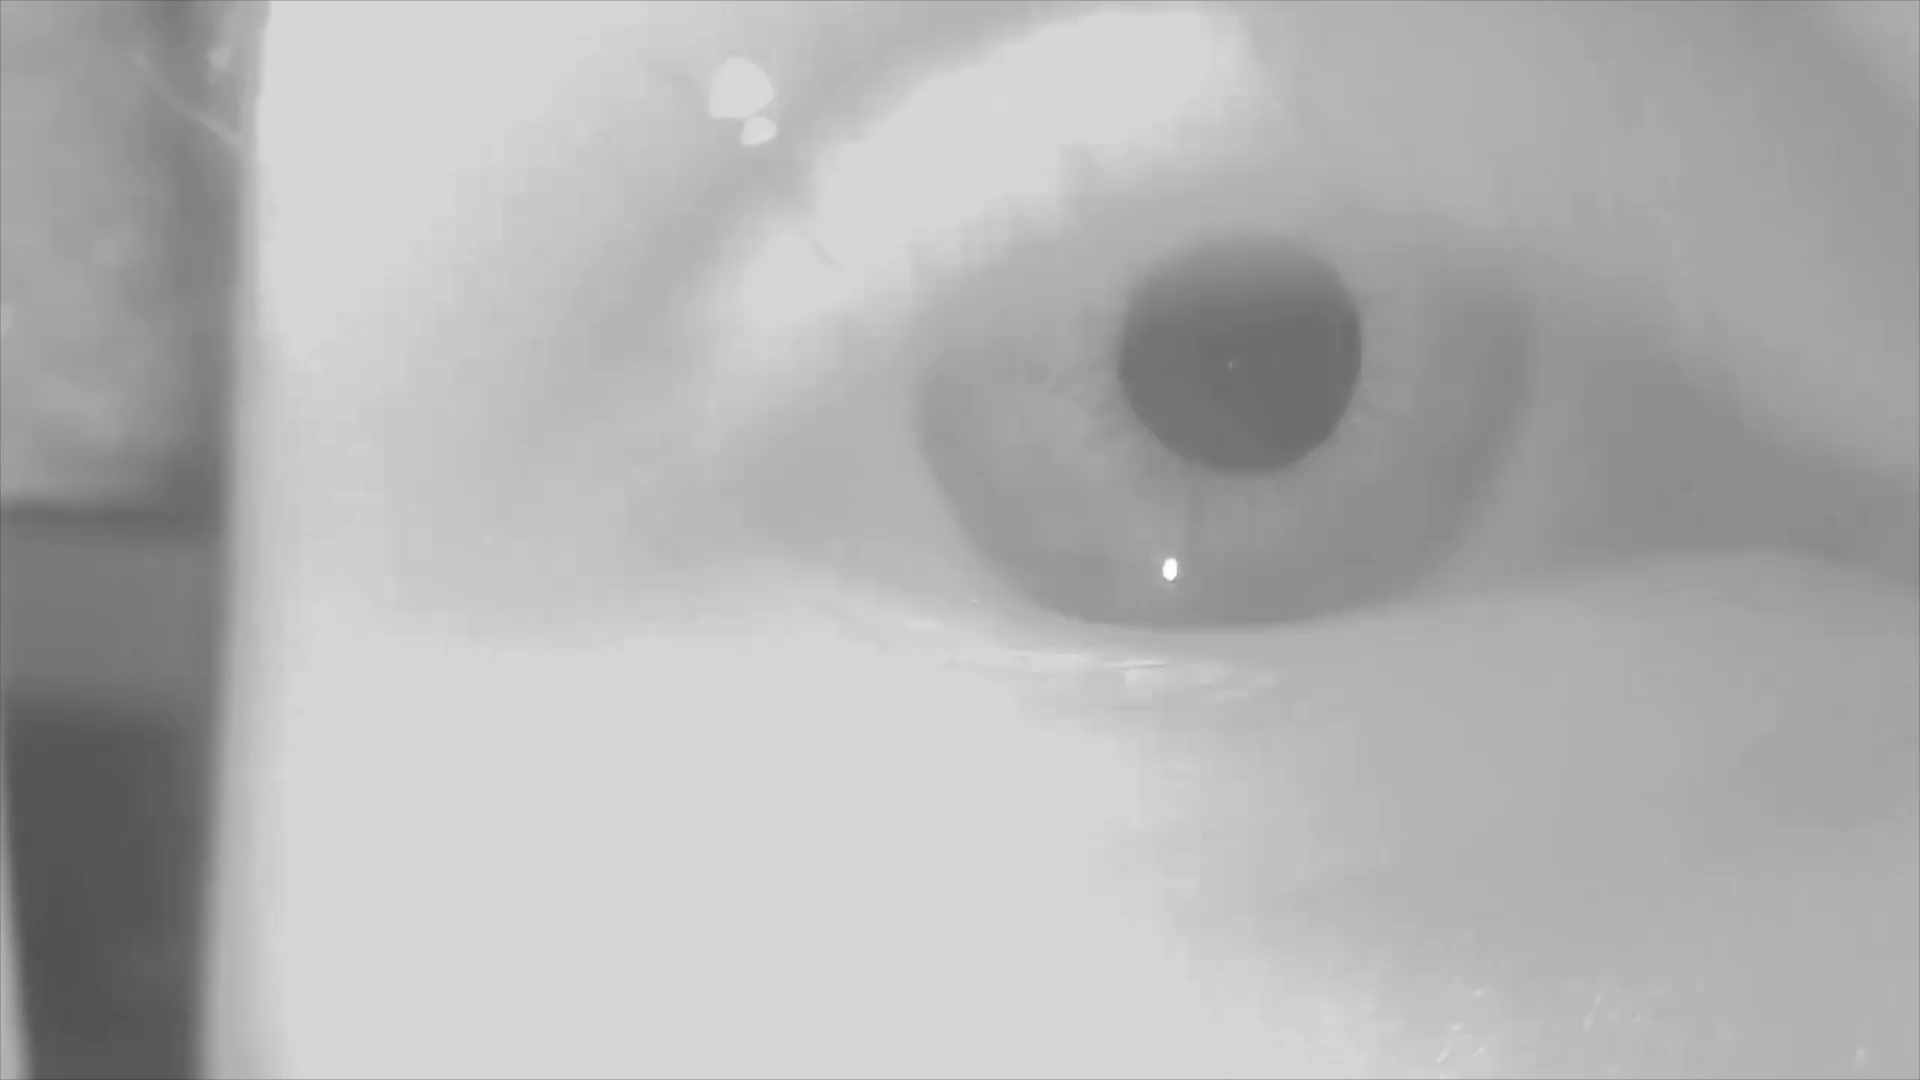pupil: (1123, 231, 1361, 471)
